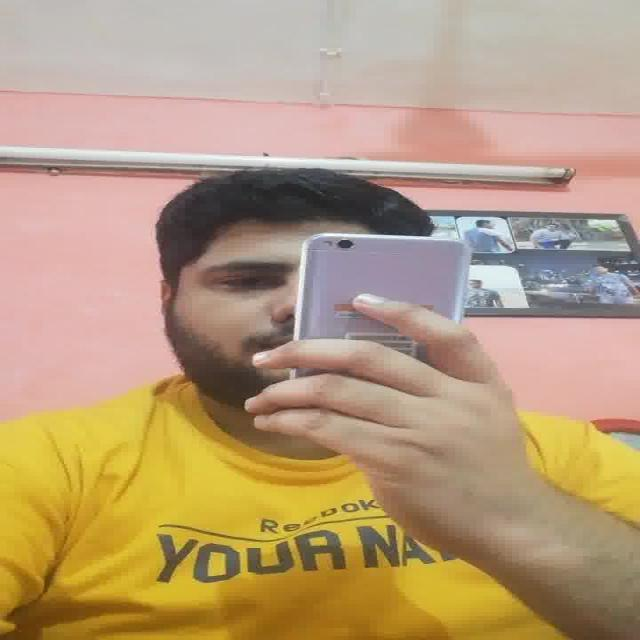Phone: (294, 234, 468, 338)
